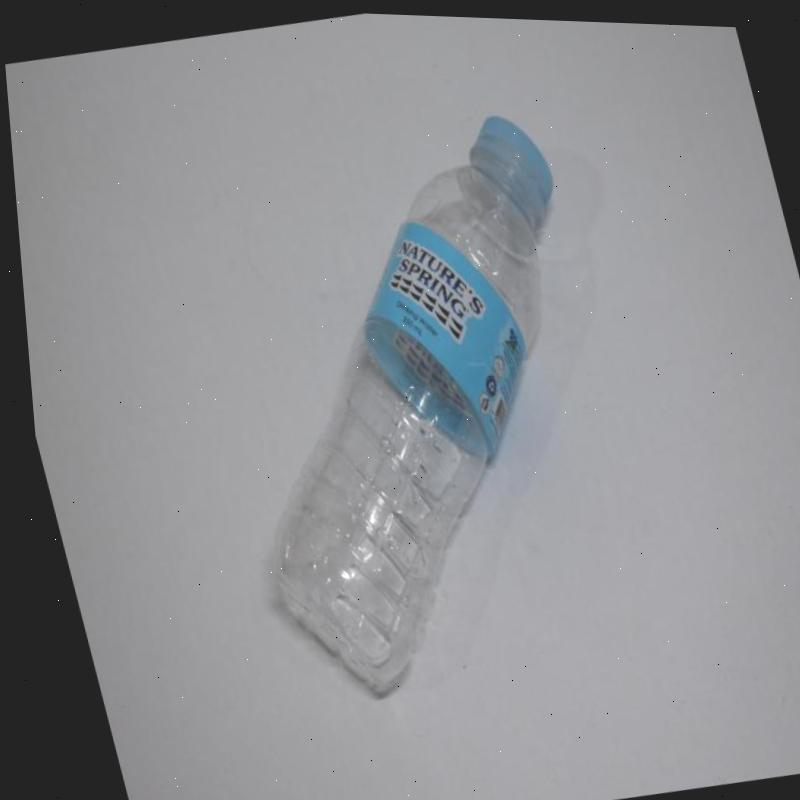botella: (157, 93, 670, 717)
